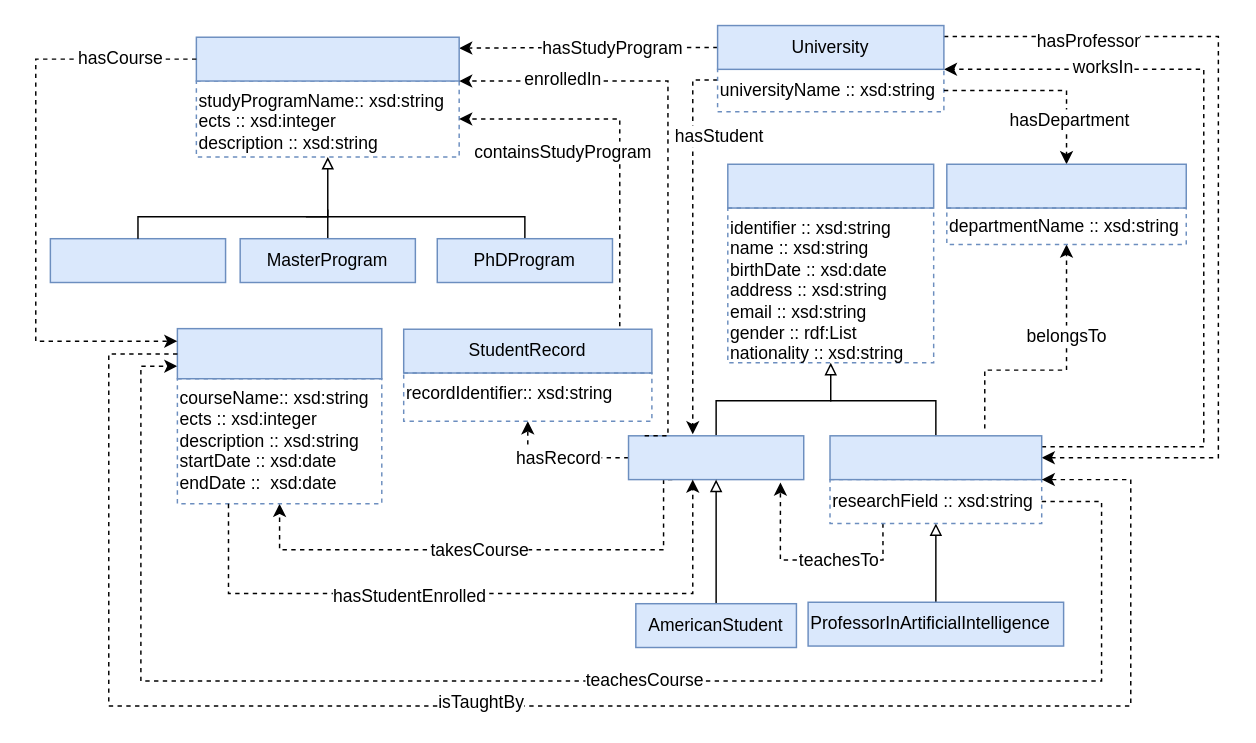
The diagram is 1256 pixels wide and 743 high, and some of its shapes have lost their labels. Here are the shapes that lost their labels. From the top down, the centre of each, then its label:
At point 327,58: "StudyProgram".
At point 830,185: "Person".
At point 1065,185: "Department".
At point 137,260: "BachelorProgram".
At point 279,353: "Course".
At point 715,457: "Student".
At point 935,457: "Professor".
